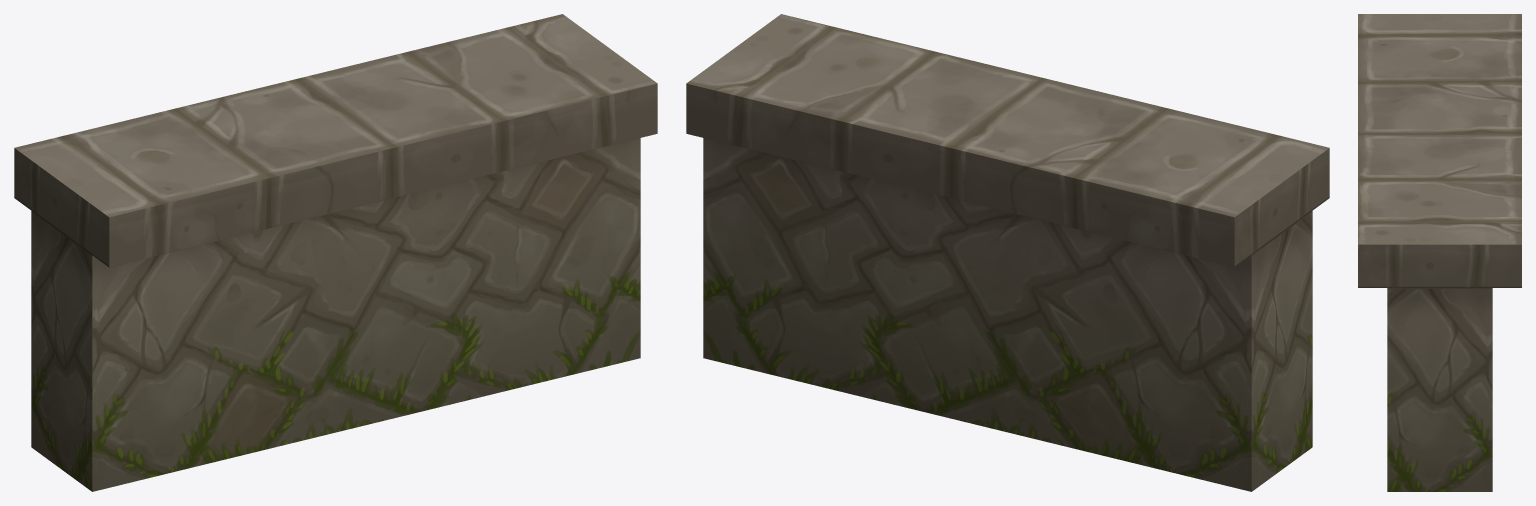
File: Stone_fence.FBX
3 renders of one model, left to right at view 1: azimuth 30°, elevation 25°; view 2: azimuth 150°, elevation 25°; view 3: azimuth 270°, elevation 25°, orthographic. The views are drawn at different scales.
Visible parts, largest first — view 1: Stone_fence; view 2: Stone_fence; view 3: Stone_fence.
Boxes of the visible parts, left/top/right/bottom form: Stone_fence: left=14, top=14, right=657, bottom=491; Stone_fence: left=686, top=14, right=1329, bottom=491; Stone_fence: left=1358, top=14, right=1521, bottom=491.
Size of what is drawn, in the model's own units: 400 by 120 by 200.
